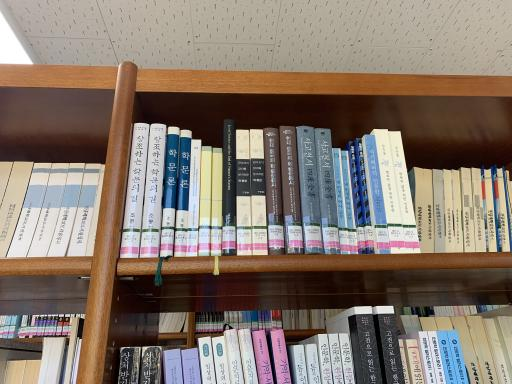book-spine: (388, 131, 421, 253), (375, 129, 407, 253), (120, 123, 149, 258), (140, 123, 167, 258), (297, 126, 324, 254), (314, 129, 341, 254), (365, 134, 391, 254), (280, 126, 304, 255), (264, 128, 285, 255), (160, 127, 180, 257), (174, 129, 192, 257), (250, 129, 268, 255), (357, 139, 375, 253), (236, 130, 252, 256), (349, 142, 367, 254), (332, 148, 350, 254), (222, 119, 236, 255), (340, 151, 358, 254), (186, 139, 201, 256), (199, 146, 211, 256), (211, 148, 222, 256)
